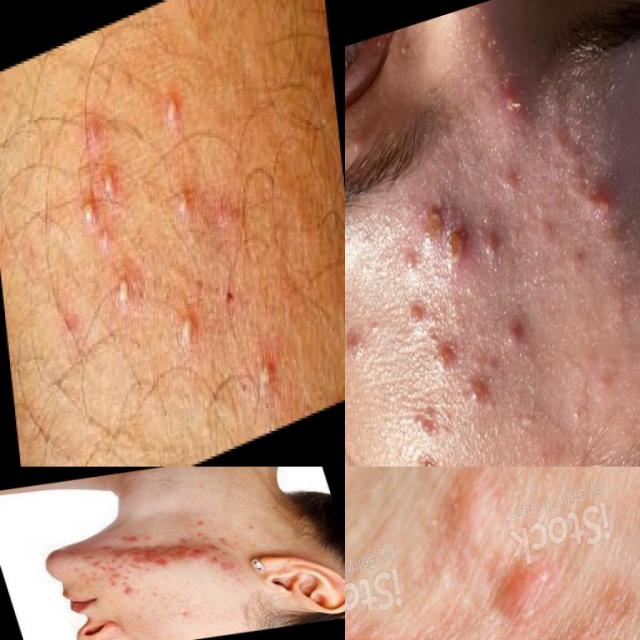8: (76, 64, 111, 163), (84, 559, 125, 585), (185, 541, 217, 562), (112, 580, 140, 598)
9: (426, 333, 463, 386), (581, 177, 613, 229), (497, 304, 526, 359), (477, 203, 502, 266), (454, 378, 487, 424), (396, 294, 430, 335), (394, 243, 424, 284), (496, 79, 526, 113)
blackheads: (132, 538, 192, 571)
pustules: (418, 182, 454, 248), (439, 216, 473, 276)
whiteheads: (167, 283, 208, 375), (154, 64, 188, 145), (108, 252, 144, 321), (247, 334, 279, 408), (170, 170, 200, 240), (95, 149, 126, 211), (72, 186, 102, 238)
